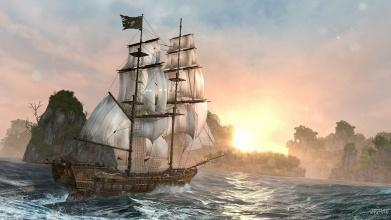fanchuan: (51, 7, 224, 205)
